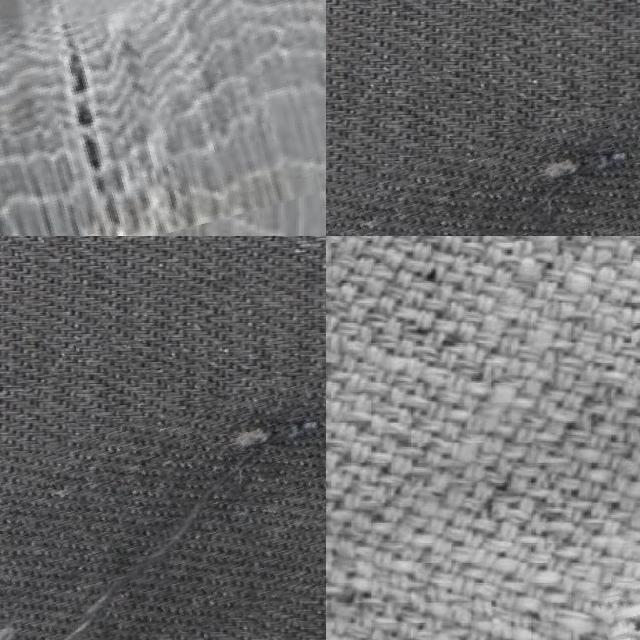Thread_other: (0, 388, 326, 640), (326, 119, 640, 236)
